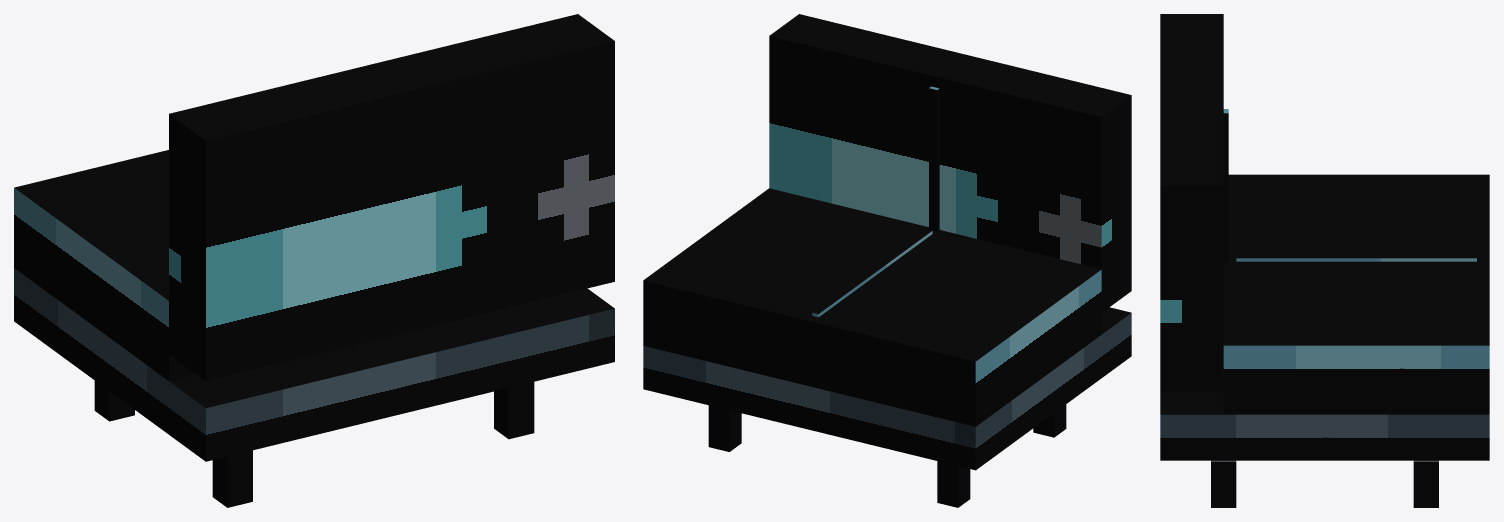
The model's file is lab_waiting_sofa.obj.
3 renders of one model, left to right at view 1: azimuth 30°, elevation 25°; view 2: azimuth 150°, elevation 25°; view 3: azimuth 270°, elevation 25°, orthographic. The views are drawn at different scales.
Bounding box in the file's own units: 1 × 0.9375 × 0.8125.
